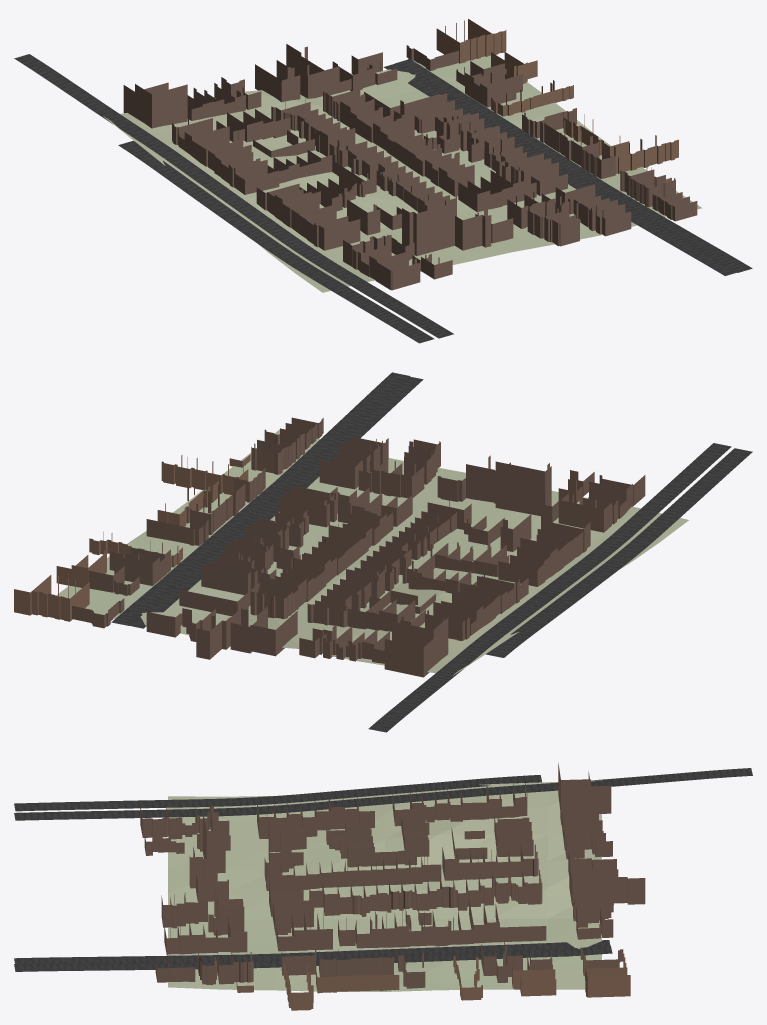
Rendered from tile_30_-26_lod1.gltf.
3 renders of one model, top to bottom at view 1: azimuth 30°, elevation 25°; view 2: azimuth 150°, elevation 25°; view 3: azimuth 270°, elevation 25°, orthographic. The views are drawn at different scales.
Visible parts, largest first — view 1: Buildings_col, Roads, Terrain_col; view 2: Buildings_col, Roads, Terrain_col; view 3: Buildings_col, Terrain_col, Roads.
Boxes of the visible parts, x1,y1,x2,y2 form: Buildings_col: [123, 19, 697, 290]; Roads: [14, 54, 752, 343]; Terrain_col: [103, 55, 702, 292]; Buildings_col: [14, 417, 645, 677]; Roads: [111, 372, 752, 732]; Terrain_col: [56, 429, 688, 675]; Buildings_col: [140, 763, 645, 1010]; Terrain_col: [168, 780, 601, 991]; Roads: [14, 768, 752, 971].
Bounding box in the file's own units: 293 × 38.77 × 436.
4 materials, 1 textured.
